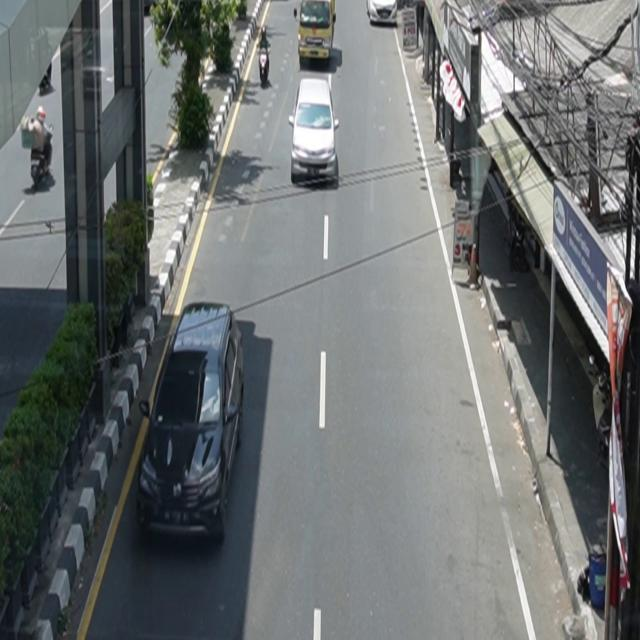car: (137, 302, 245, 545), (289, 77, 340, 187), (294, 1, 337, 63), (366, 1, 398, 26)
